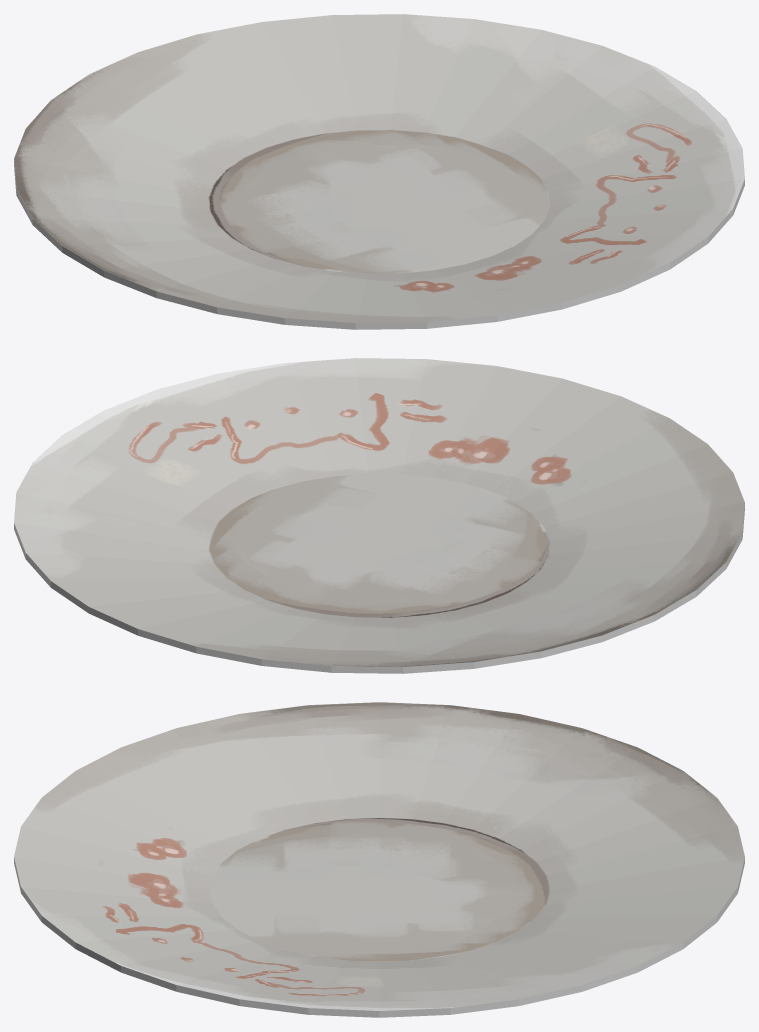
The model's file is plate_sm.fbx.
The picture shows the model from 3 angles, top to bottom: view 1: azimuth 30°, elevation 25°; view 2: azimuth 150°, elevation 25°; view 3: azimuth 270°, elevation 25°; orthographic projection.
Parts seen in each view (by area): view 1: plate_SM; view 2: plate_SM; view 3: plate_SM.
Part boxes in pixels (x1=…): plate_SM: x1=14, y1=14, x2=744, y2=329; plate_SM: x1=14, y1=358, x2=744, y2=673; plate_SM: x1=14, y1=702, x2=744, y2=1017.
Size of the model in its own units: 907 by 68.04 by 907.
1 material, 1 textured.
